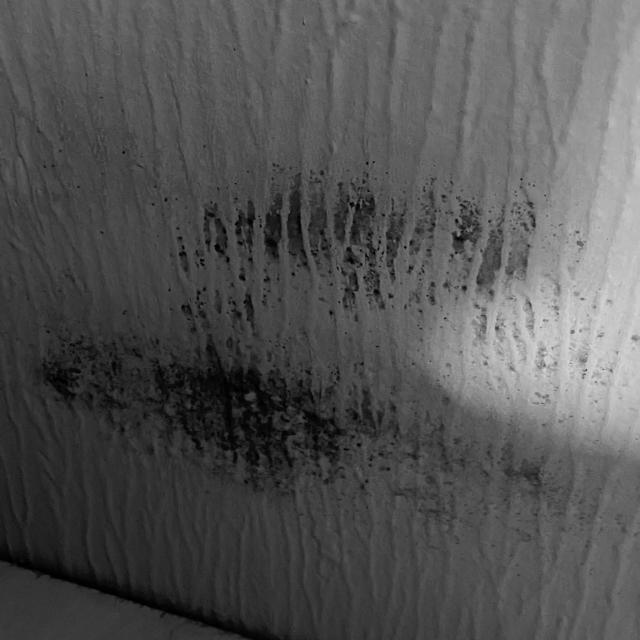stain marks: (22, 320, 635, 568), (92, 144, 638, 322)
